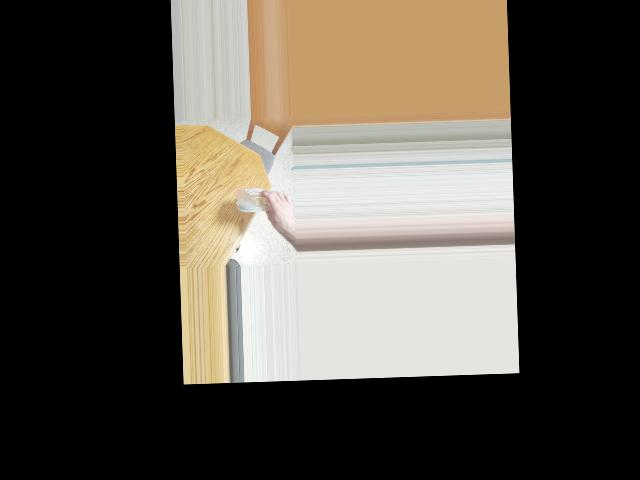cheese: (238, 180, 284, 220)
